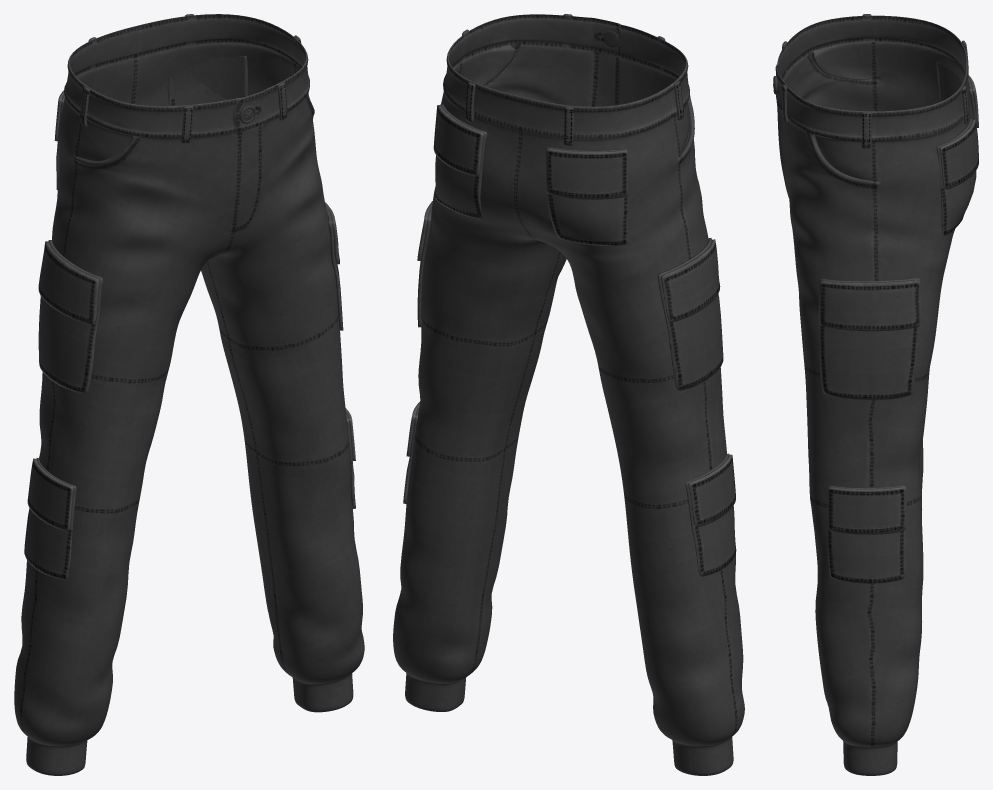
File: MalePants2-2.glb
The picture shows the model from 3 angles, left to right: view 1: azimuth 30°, elevation 25°; view 2: azimuth 150°, elevation 25°; view 3: azimuth 270°, elevation 25°; orthographic projection. The views are drawn at different scales.
Parts seen in each view (by area): view 1: Cube_Material_0; view 2: Cube_Material_0; view 3: Cube_Material_0.
Part boxes in pixels (<box>): Cube_Material_0: <box>14,14,364,775</box>; Cube_Material_0: <box>393,14,744,775</box>; Cube_Material_0: <box>773,14,978,775</box>.
Size of the model in its own units: 0.1871 by 0.3594 by 0.1044.
1 material, 1 textured.
